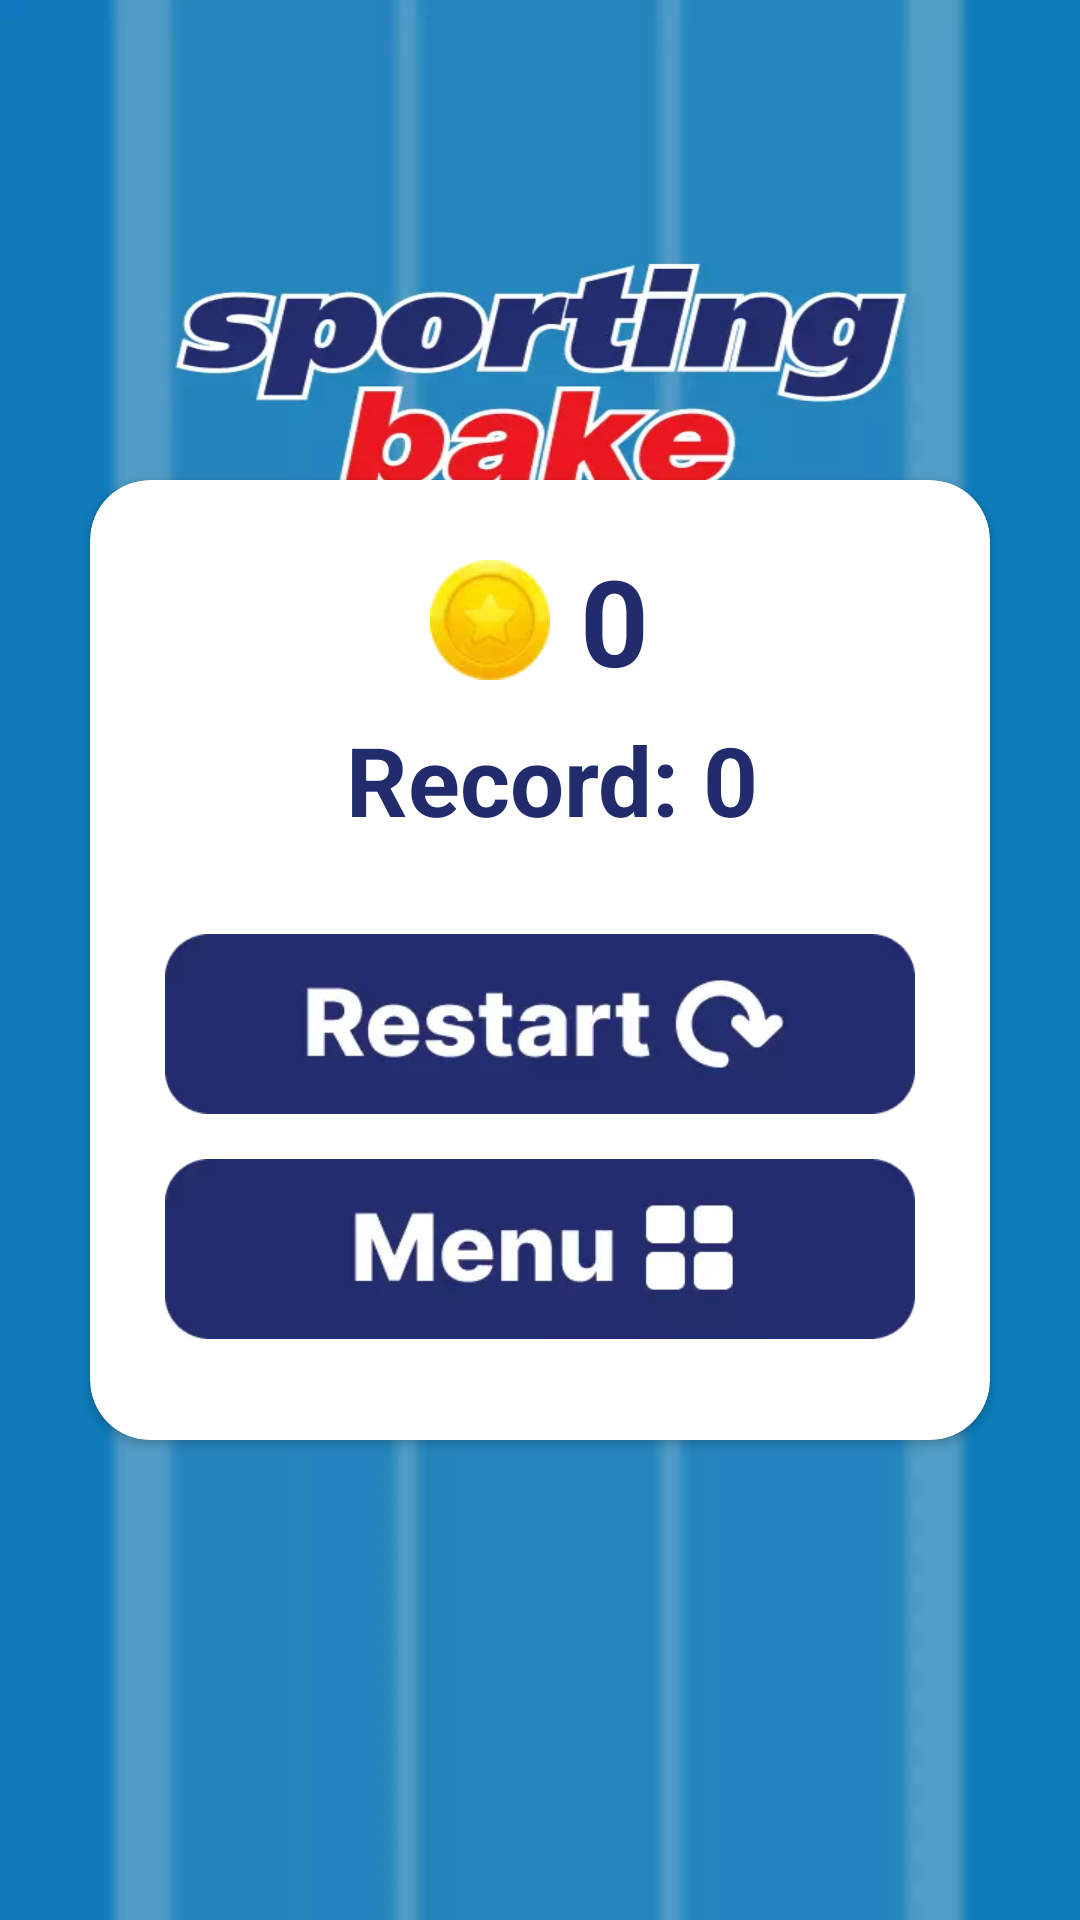

Where icons sit on this 1080px x 1920px app screen, as (x1, y1, x2, y2):
coin: (430, 560, 550, 680)
